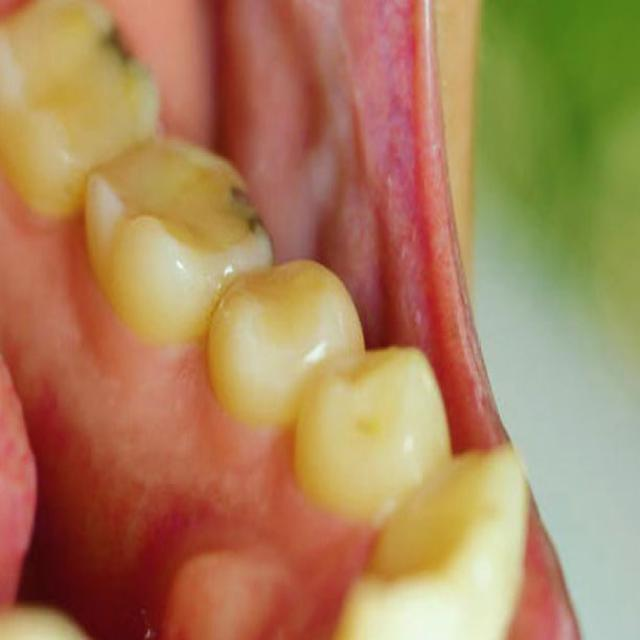caries: (88, 1, 156, 94), (222, 168, 287, 249)
